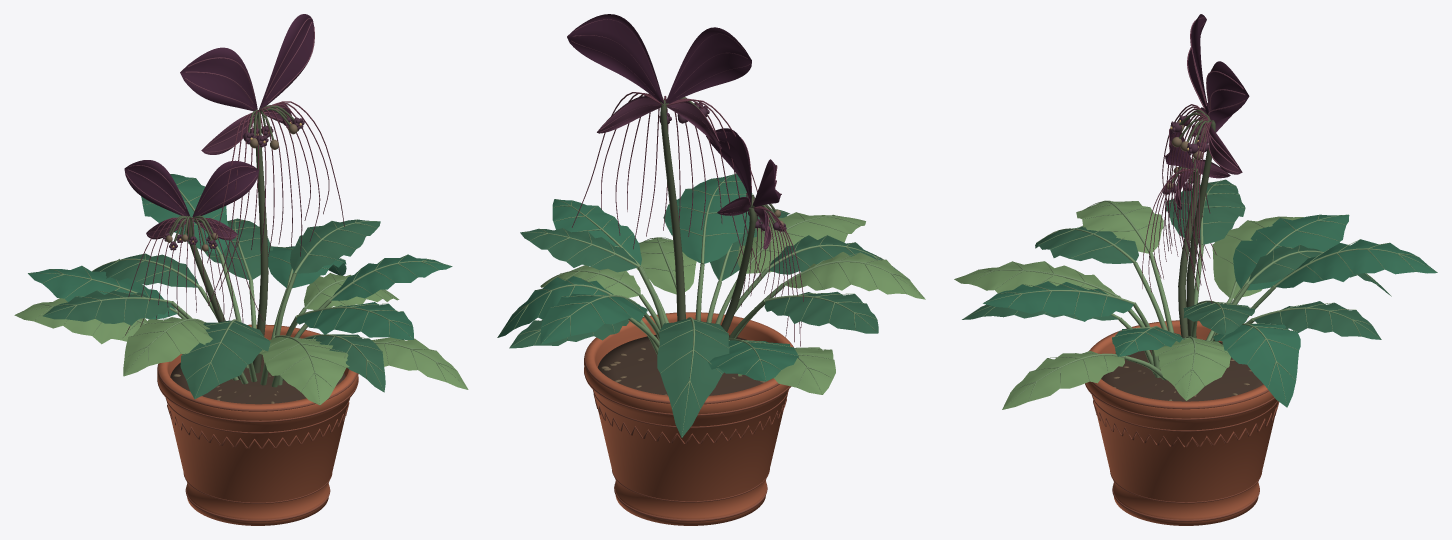
3 views of the same model, side by side, from view 1: azimuth 30°, elevation 25°; view 2: azimuth 150°, elevation 25°; view 3: azimuth 270°, elevation 25° (orthographic). The views are drawn at different scales.
Visible parts, largest first — view 1: Foliage, Terracotta pot, Wing bracts, Whisker bracteoles, Pot trim, Soil, Flower scapes, Flower cluster; view 2: Foliage, Terracotta pot, Wing bracts, Whisker bracteoles, Soil, Pot trim, Flower scapes, Flower cluster; view 3: Foliage, Terracotta pot, Wing bracts, Whisker bracteoles, Soil, Pot trim, Flower scapes, Flower cluster.
Part boxes in pixels (left/top/right/bottom): Foliage: left=14, top=174, right=468, bottom=405; Terracotta pot: left=157, top=324, right=358, bottom=525; Wing bracts: left=124, top=14, right=314, bottom=240; Whisker bracteoles: left=125, top=101, right=344, bottom=335; Pot trim: left=157, top=363, right=358, bottom=521; Soil: left=170, top=355, right=345, bottom=404; Flower scapes: left=186, top=114, right=268, bottom=379; Flower cluster: left=163, top=105, right=304, bottom=251; Foliage: left=497, top=173, right=925, bottom=437; Terracotta pot: left=584, top=312, right=792, bottom=525; Wing bracts: left=567, top=14, right=781, bottom=249; Whisker bracteoles: left=572, top=92, right=803, bottom=346; Soil: left=597, top=334, right=765, bottom=395; Pot trim: left=584, top=341, right=793, bottom=521; Flower scapes: left=660, top=105, right=756, bottom=331; Flower cluster: left=659, top=97, right=786, bottom=231; Foliage: left=954, top=179, right=1437, bottom=409; Terracotta pot: left=1085, top=320, right=1278, bottom=525; Wing bracts: left=1164, top=14, right=1249, bottom=209; Whisker bracteoles: left=1142, top=104, right=1216, bottom=303; Soil: left=1101, top=340, right=1263, bottom=401; Pot trim: left=1085, top=348, right=1279, bottom=521; Flower scapes: left=1178, top=120, right=1215, bottom=338; Flower cluster: left=1162, top=109, right=1212, bottom=194.
Size of the model in its own units: 0.6351 by 0.7704 by 0.7284.
